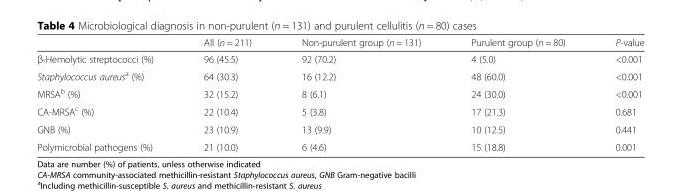table: (36, 36, 643, 152)
table column: (276, 36, 445, 152), (445, 36, 589, 152), (36, 36, 178, 152), (178, 36, 276, 152), (589, 36, 643, 152)
table column header: (36, 36, 643, 49)
table row: (36, 101, 643, 120), (36, 66, 643, 84), (36, 49, 643, 66), (36, 84, 643, 101), (36, 120, 643, 137), (36, 137, 643, 152), (36, 36, 643, 49)
